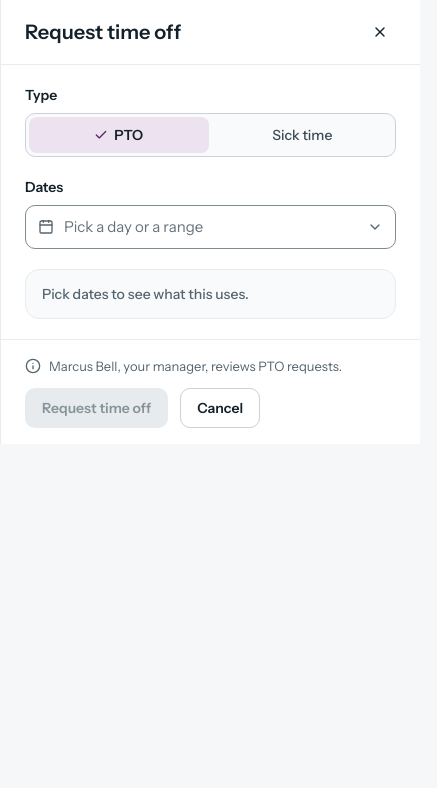
RequestForm, in a bottom sheet › RequestForm, an open picker when sending starts › closes the picker, so the dates cannot change mid-request
Click the button named "Dates" at (134, 226), box [25,205,396,249]
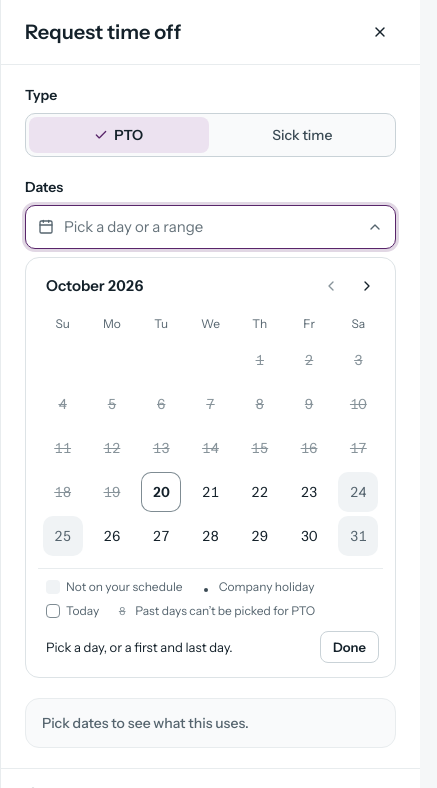
Check: the table is shown, box [38,310,383,558]
